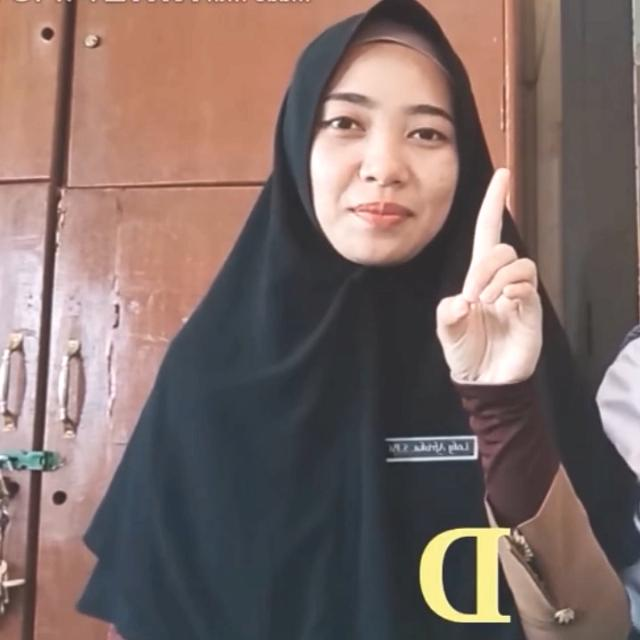D: (436, 166, 546, 386)
